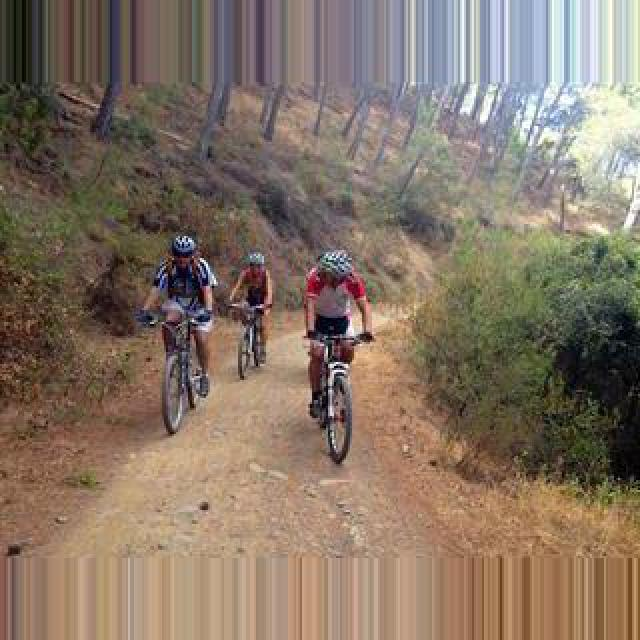MC-Bike: (302, 250, 376, 424), (144, 234, 218, 398), (228, 250, 274, 364)
Person: (304, 327, 370, 463), (155, 307, 209, 435), (227, 300, 269, 380)
